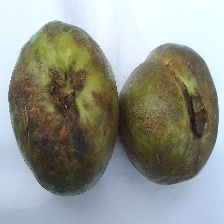guava: (27, 27, 198, 194)
